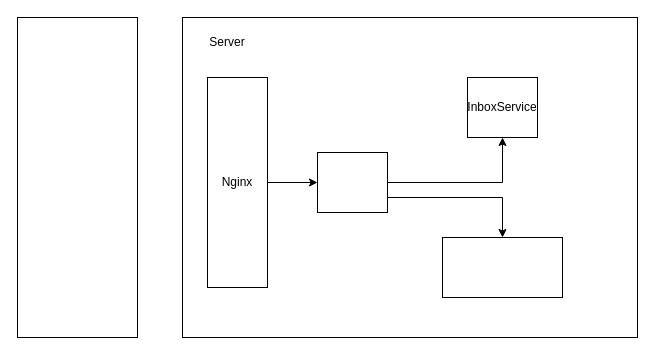
This 655x355 diagram has some shape labels left out. The shapes that lost their labels are listed below. From the top down, each one's box as (x1, y1, x2, y2) in pixels, then its label:
(16, 16, 138, 338): Client (React)
(316, 152, 388, 212): API GW
